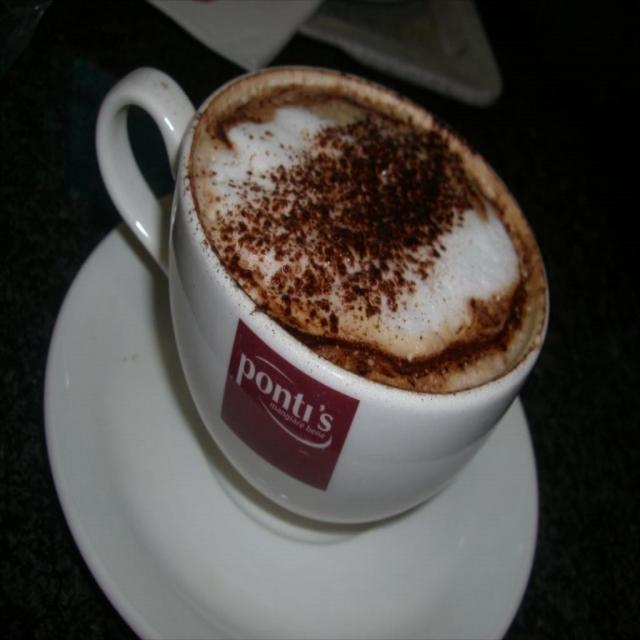cup-handle: (93, 68, 553, 528)
